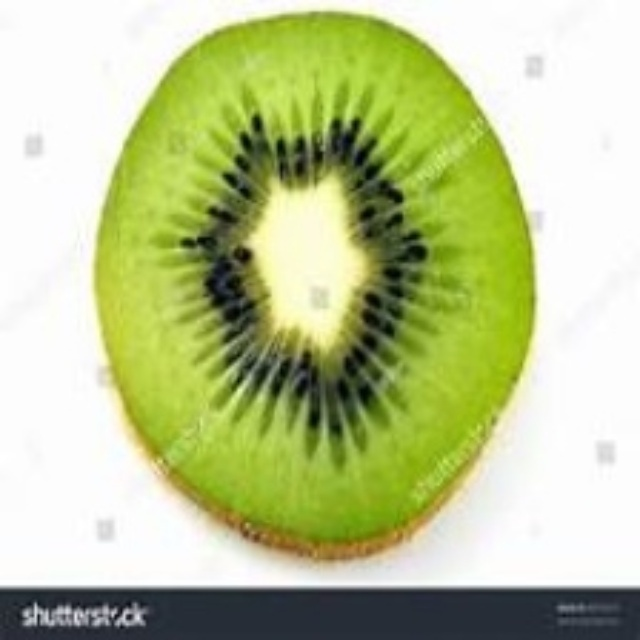kiwi: (86, 15, 532, 568)
